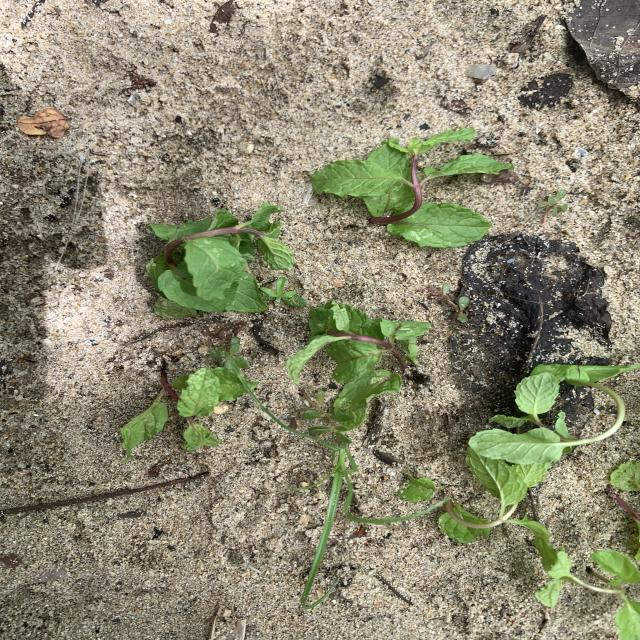crop: (440, 364, 640, 570), (312, 129, 512, 246), (286, 302, 429, 430), (148, 202, 293, 313), (535, 520, 637, 639), (121, 372, 177, 457), (174, 368, 245, 417), (608, 460, 637, 526), (183, 420, 221, 450), (183, 421, 221, 451), (400, 478, 434, 502)
weed: (248, 394, 363, 607), (300, 391, 353, 443), (424, 284, 470, 322), (261, 278, 307, 307), (210, 338, 247, 368), (538, 190, 567, 218)
